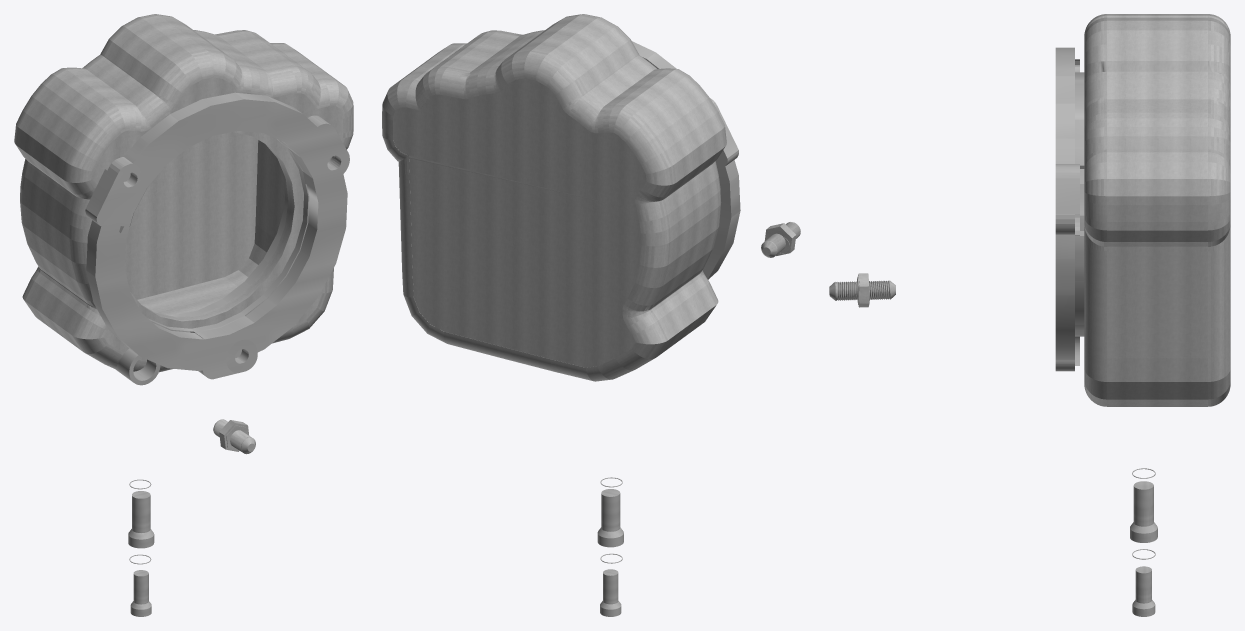
Rendered from Scene 64 step 2.fbx.
3 renders of one model, left to right at view 1: azimuth 30°, elevation 25°; view 2: azimuth 150°, elevation 25°; view 3: azimuth 270°, elevation 25°, orthographic. The views are drawn at different scales.
Parts seen in each view (by area): view 1: 1, 2, 2.001, 7, 8; view 2: 1, 2, 2.001, 7; view 3: 1, 2, 7, 2.001.
Part boxes in pixels (bbox=[...]): 1: bbox=[14, 14, 353, 385]; 2: bbox=[128, 491, 154, 548]; 2.001: bbox=[130, 570, 151, 616]; 7: bbox=[213, 419, 255, 454]; 8: bbox=[219, 420, 249, 451]; 1: bbox=[382, 14, 740, 381]; 2: bbox=[597, 489, 623, 547]; 2.001: bbox=[600, 569, 621, 616]; 7: bbox=[761, 222, 800, 257]; 1: bbox=[1055, 14, 1230, 406]; 2: bbox=[1130, 481, 1157, 542]; 7: bbox=[829, 280, 895, 300]; 2.001: bbox=[1132, 566, 1155, 616].
Size of the model in its own units: 250 by 470 by 281.
Materials: 5 (5 with a texture image).
